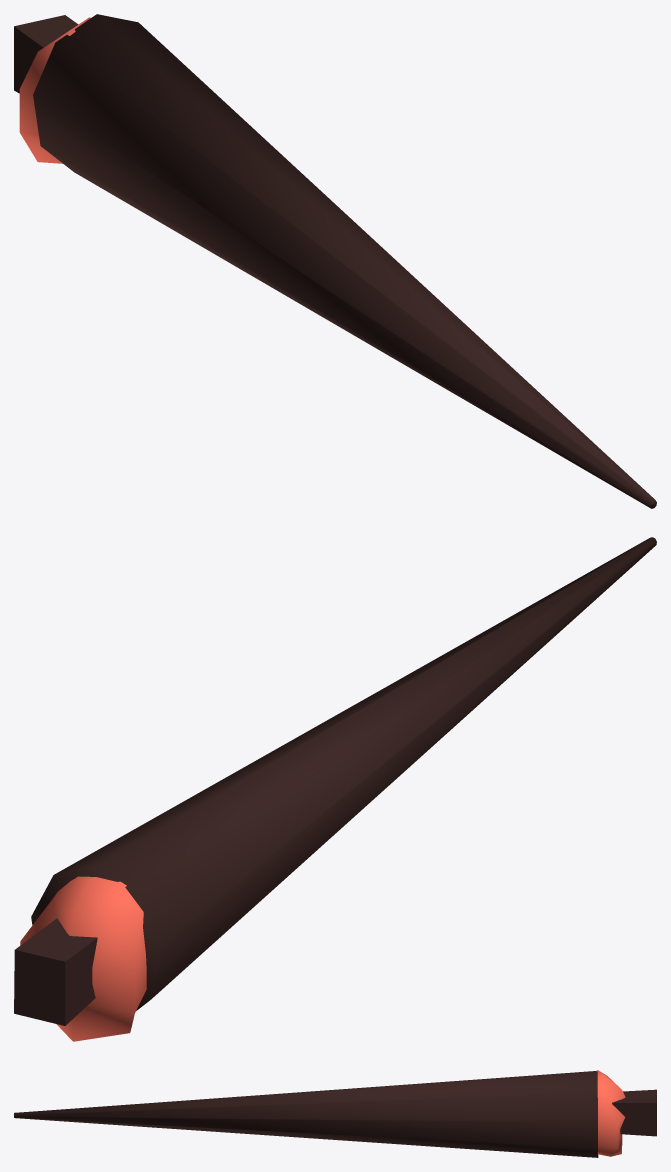
The model's file is carit.obj.
3 renders of one model, top to bottom at view 1: azimuth 30°, elevation 25°; view 2: azimuth 150°, elevation 25°; view 3: azimuth 270°, elevation 25°, orthographic. The views are drawn at different scales.
Visible parts, largest first — view 1: Cone, Cube, Sphere; view 2: Cone, Sphere, Cube; view 3: Cone, Sphere, Cube.
Part boxes in pixels (bbox=[...]): Cone: bbox=[33, 14, 656, 508]; Cube: bbox=[14, 15, 78, 93]; Sphere: bbox=[19, 17, 90, 163]; Cone: bbox=[31, 537, 656, 1010]; Sphere: bbox=[20, 876, 146, 1041]; Cube: bbox=[14, 918, 97, 1025]; Cone: bbox=[14, 1071, 598, 1157]; Sphere: bbox=[596, 1070, 625, 1156]; Cube: bbox=[612, 1089, 656, 1136].
Size of the model in its own units: 0.2632 by 0.3104 by 2.19.
